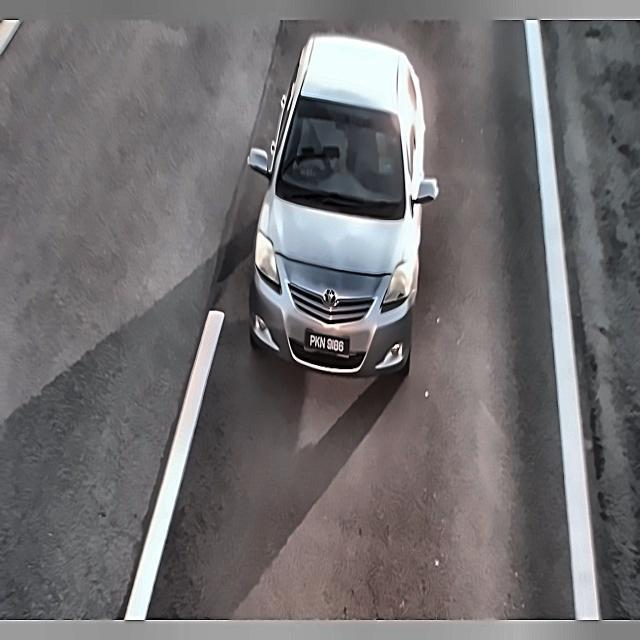car: (298, 322, 356, 365)
